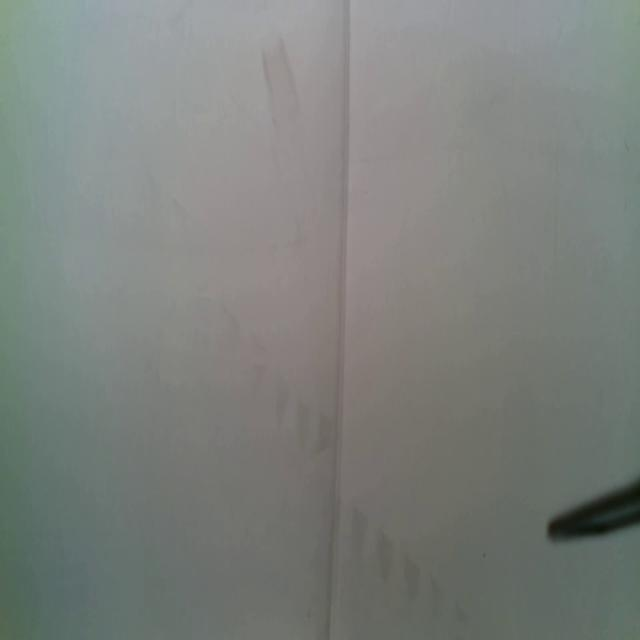crease: (327, 0, 354, 640)
hole: (483, 549, 488, 562)
